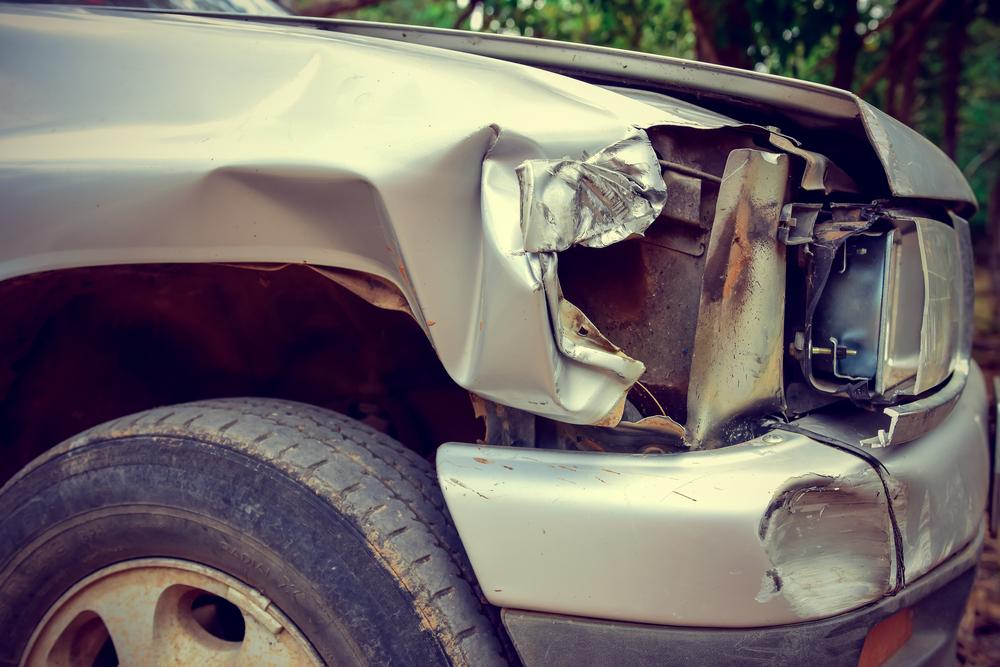dent: (186, 128, 662, 416), (760, 471, 895, 615), (882, 466, 940, 581)
